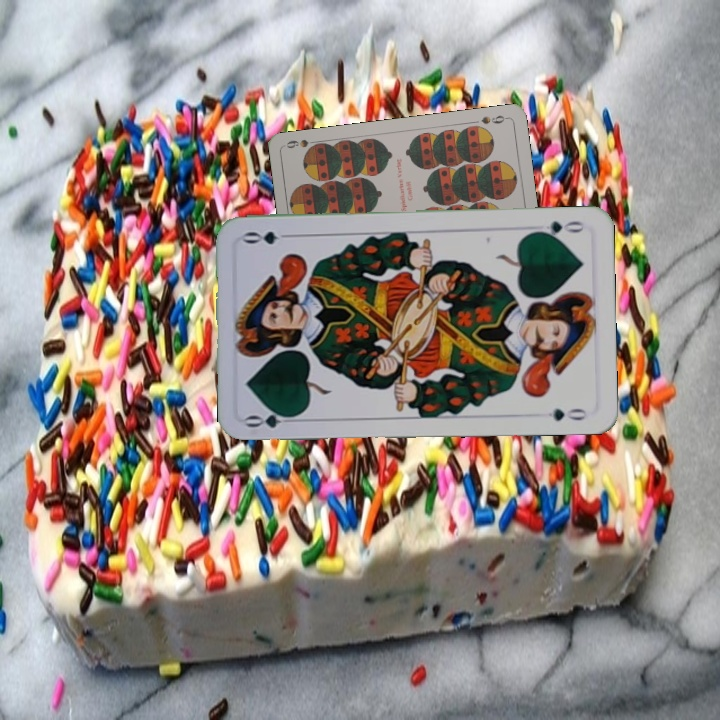GO: (242, 405, 302, 431), (529, 217, 588, 241)
S9: (477, 111, 510, 127)
